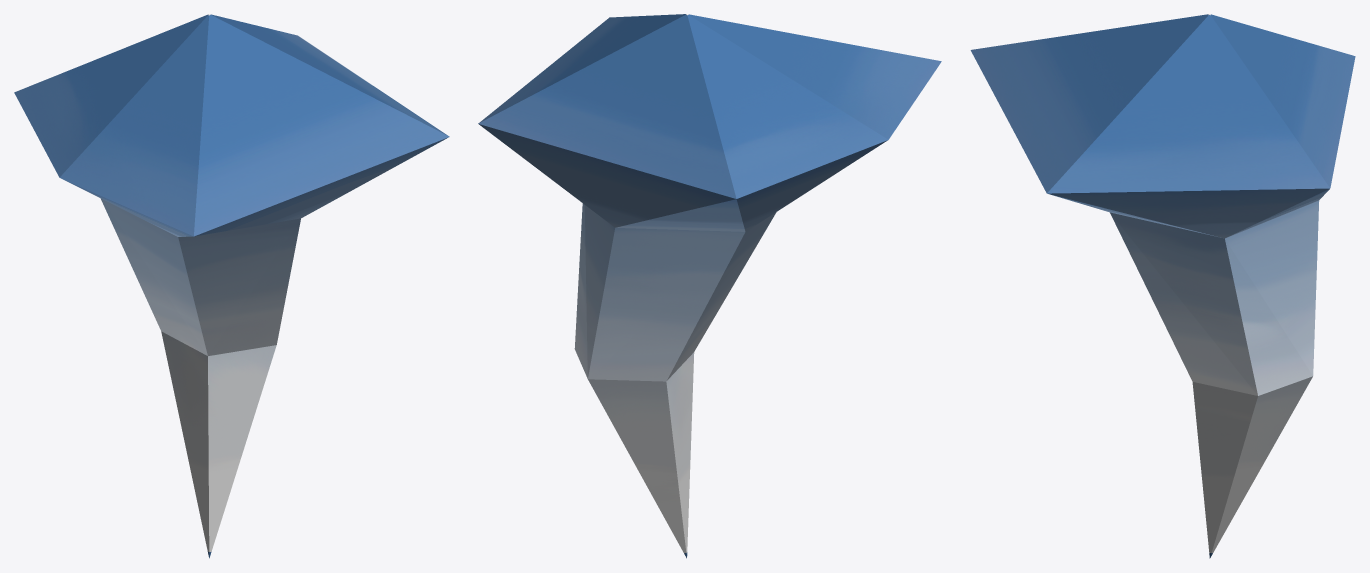
File: ICEJO.fbx
The picture shows the model from 3 angles, left to right: view 1: azimuth 30°, elevation 25°; view 2: azimuth 150°, elevation 25°; view 3: azimuth 270°, elevation 25°; orthographic projection.
Parts seen in each view (by area): view 1: Icosphere.010; view 2: Icosphere.010; view 3: Icosphere.010.
Part boxes in pixels (x1=…): Icosphere.010: x1=14, y1=14, x2=449, y2=558; Icosphere.010: x1=478, y1=14, x2=941, y2=558; Icosphere.010: x1=970, y1=14, x2=1355, y2=558.
Bounding box in the file's own units: 2132 × 3316 × 2123.
Materials: 1 (1 with a texture image).
